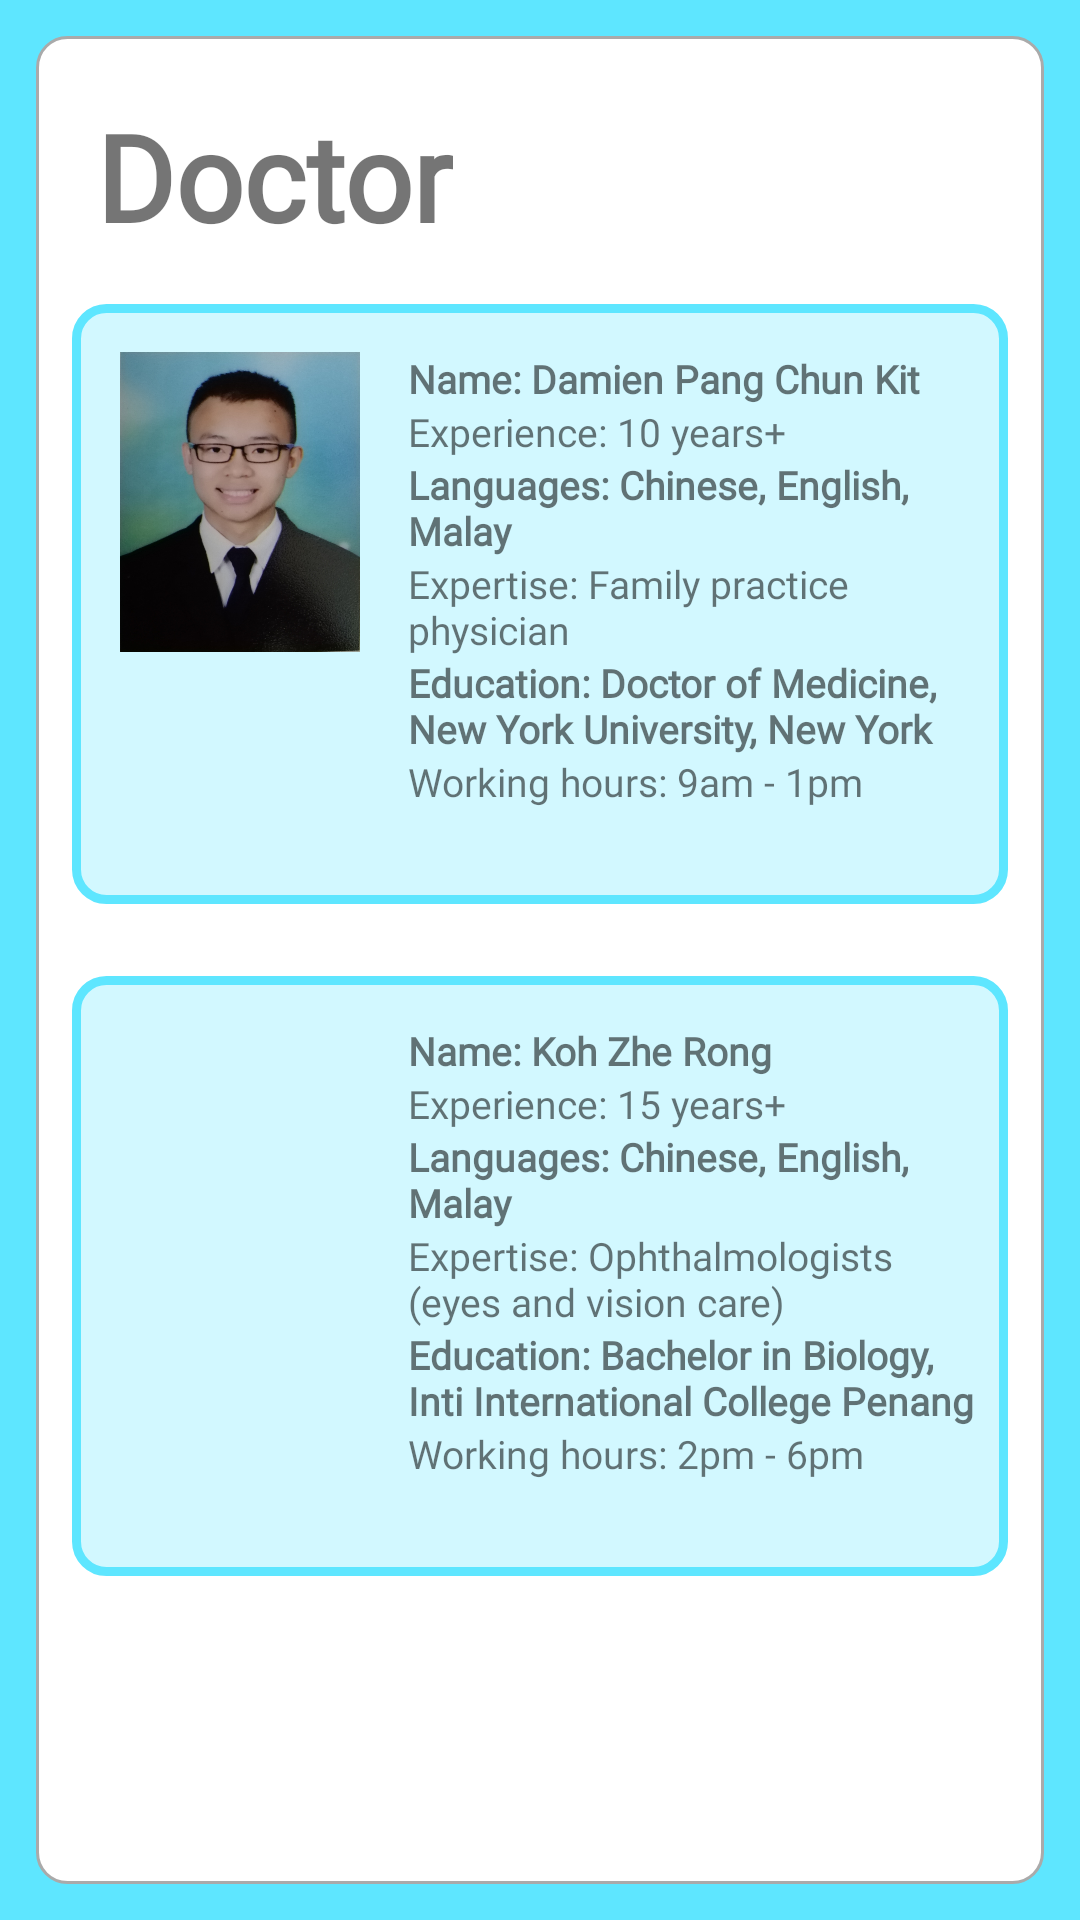

Named icons in this screenshot (1080px×1920px) and their bounding boxes, rect(x1, y1, x2, y2):
damien profile picture: rect(120, 352, 360, 652)
